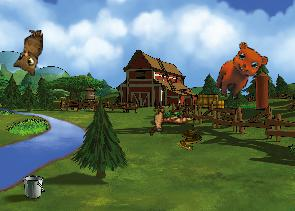bear: (211, 38, 271, 107)
eagle: (137, 91, 196, 148)
owl: (12, 27, 43, 76)
